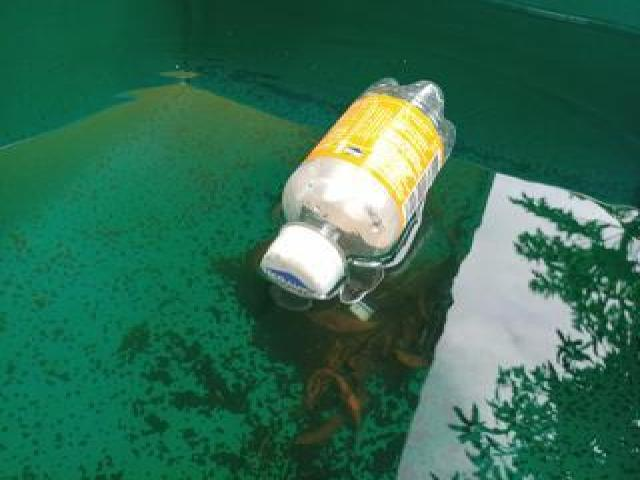Bottle: (257, 77, 459, 302)
